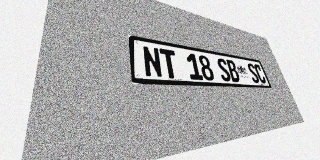1: (185, 53, 203, 80)
8: (197, 55, 215, 81)
B: (225, 59, 241, 82)
C: (253, 64, 267, 84)
N: (142, 45, 163, 78)
S: (216, 58, 232, 82), (246, 63, 260, 83)
T: (159, 48, 179, 79)
